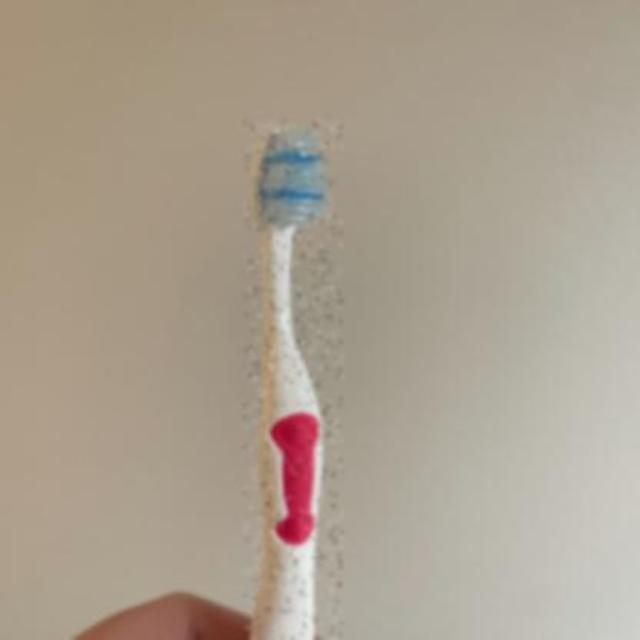toothbrush: (245, 118, 343, 640)
